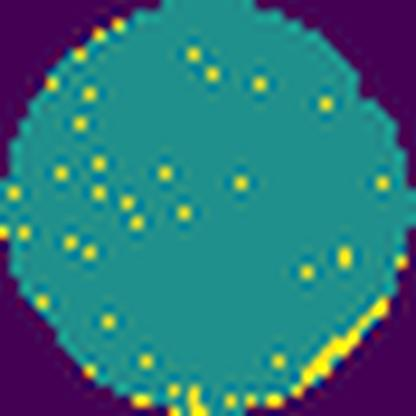Edge-Loc: (289, 294, 393, 398)
